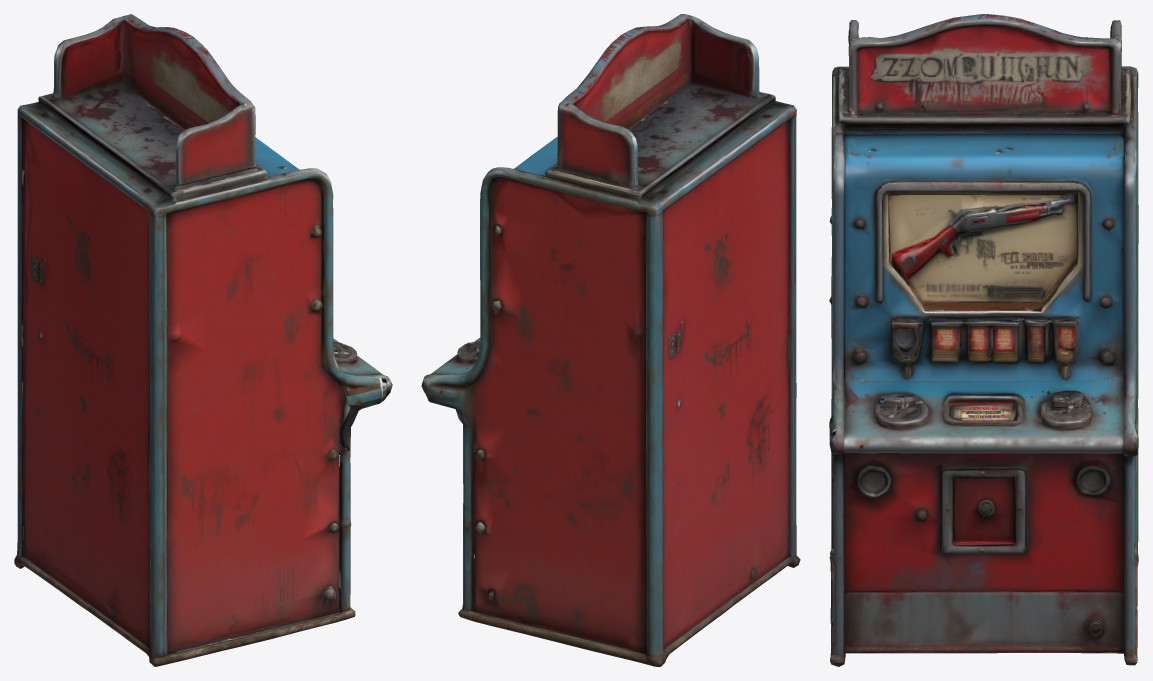
Rendered from shotgunMachine.glb.
3 renders of one model, left to right at view 1: azimuth 30°, elevation 25°; view 2: azimuth 150°, elevation 25°; view 3: azimuth 270°, elevation 25°, orthographic. The views are drawn at different scales.
Size of the model in its own units: 0.9101 by 2 by 0.9324.
1 material, 1 textured.
